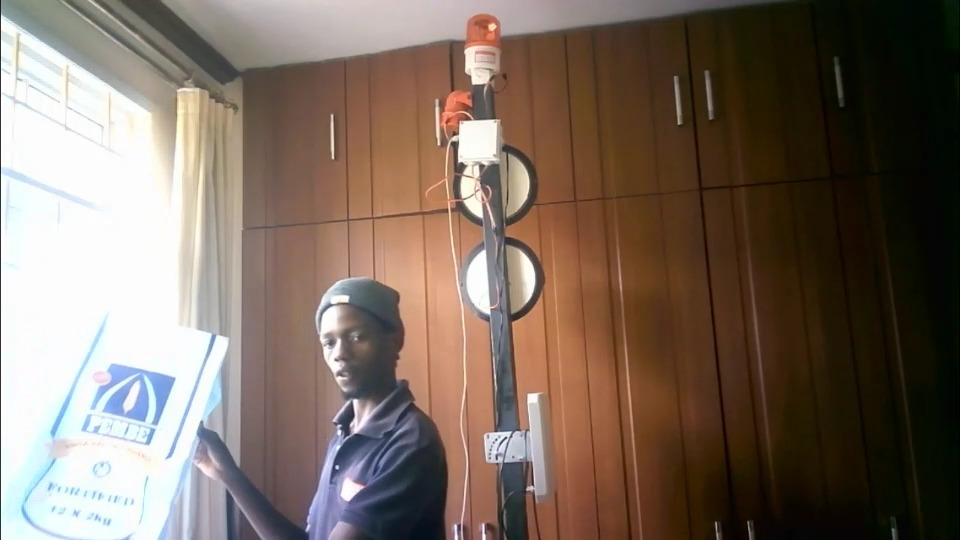wheat_flour_blue_label: (21, 315, 224, 535)
